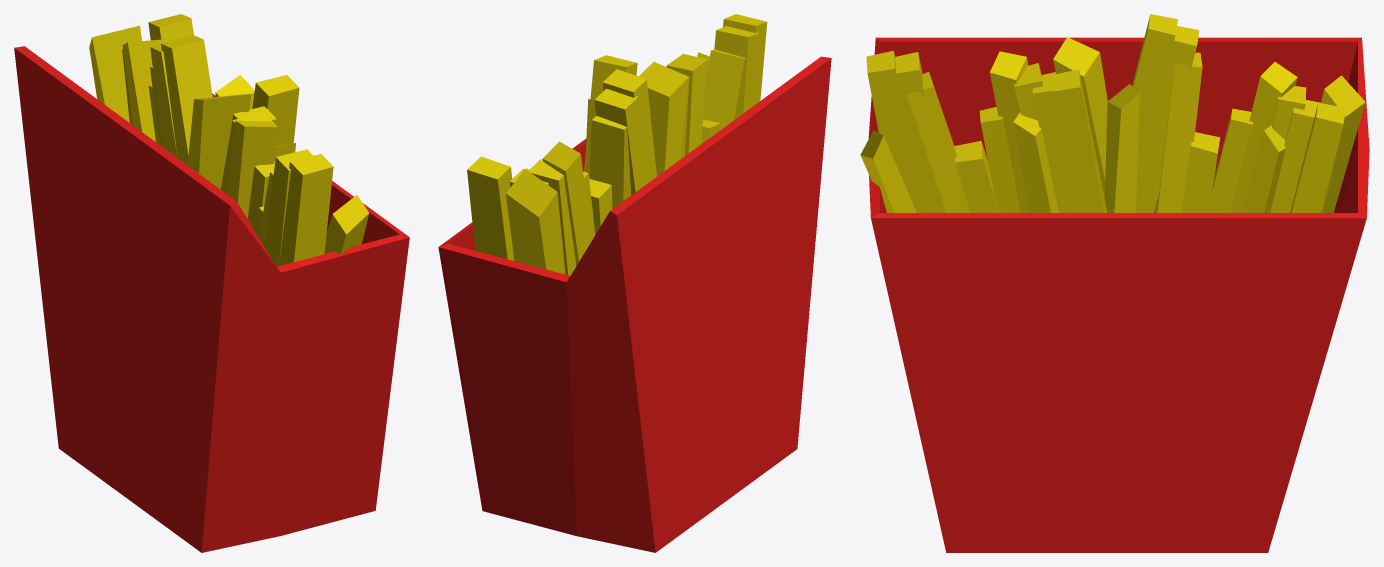
The model's file is pommes.fbx.
3 views of the same model, side by side, from view 1: azimuth 30°, elevation 25°; view 2: azimuth 150°, elevation 25°; view 3: azimuth 270°, elevation 25° (orthographic). The views are drawn at different scales.
Visible parts, largest first — view 1: Kutijica; view 2: Kutijica; view 3: Kutijica.
Boxes of the visible parts, x1=… form: Kutijica: x1=14, y1=14, x2=409, y2=552; Kutijica: x1=438, y1=14, x2=831, y2=552; Kutijica: x1=860, y1=14, x2=1369, y2=552.
Bounding box in the file's own units: 5.71 × 13.13 × 12.6.
